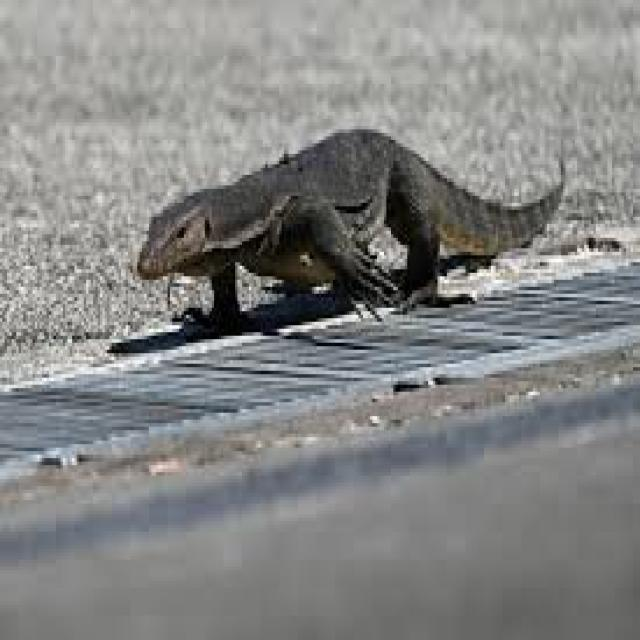Lizard: (135, 121, 569, 312)
